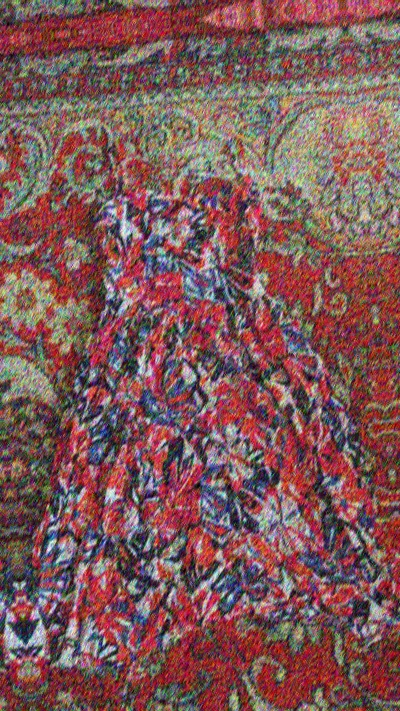Dress: (12, 112, 400, 711), (364, 75, 400, 675)
